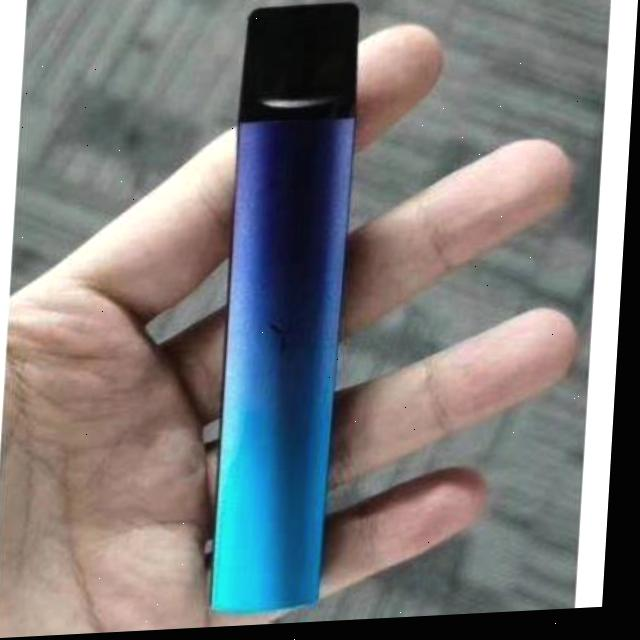vape: (218, 8, 362, 617)
